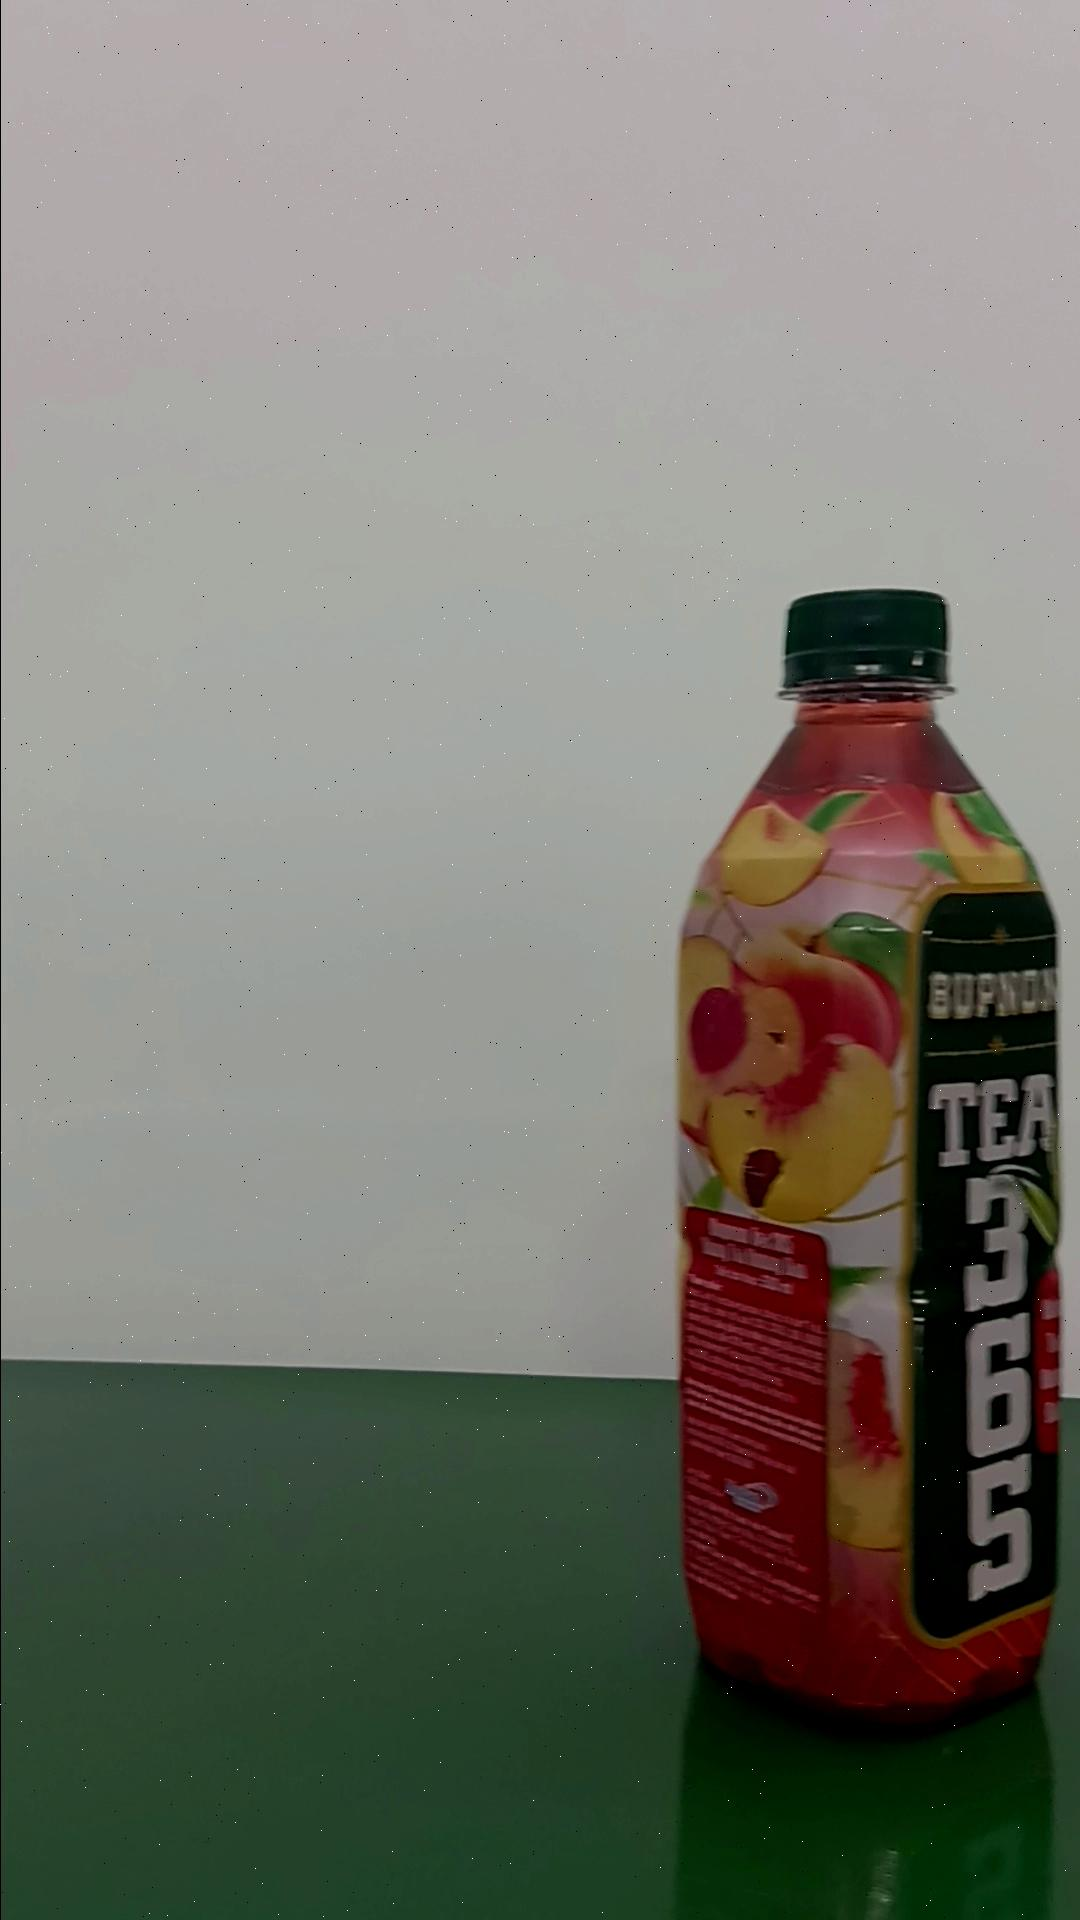loi rach va lap chai: (676, 580, 1067, 1750)
